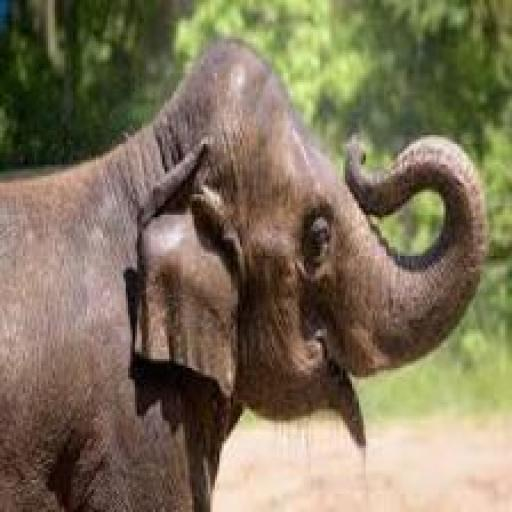Elephant: (2, 29, 487, 512)
